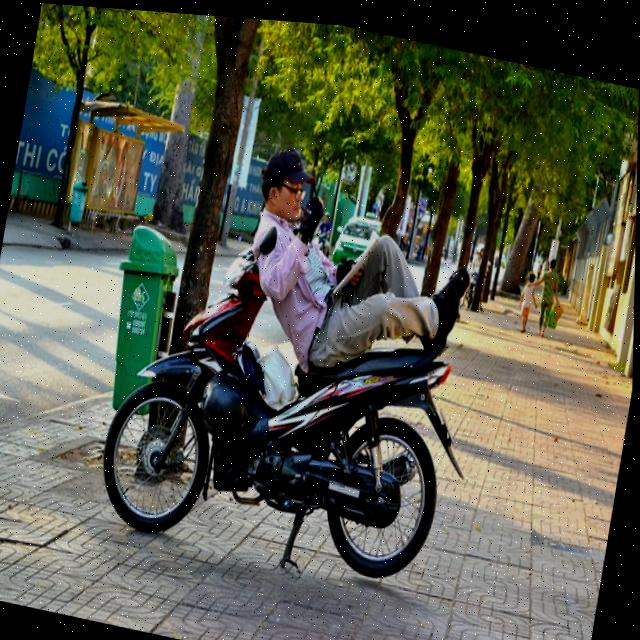motorcycle: (95, 207, 490, 595)
